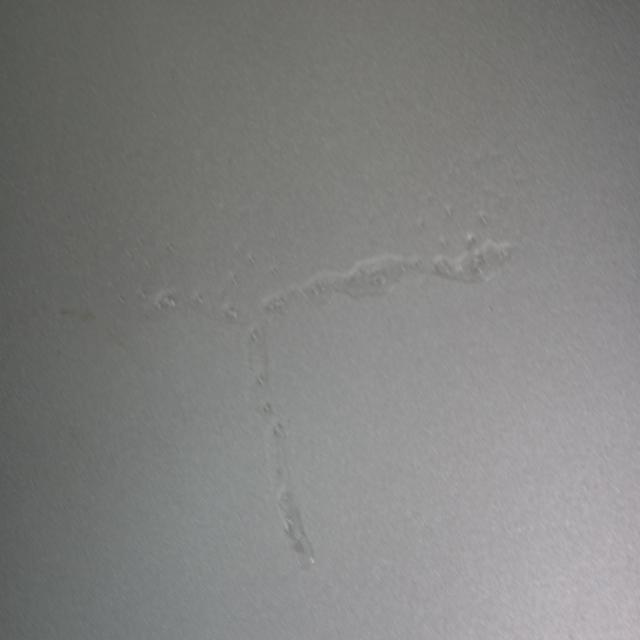runs: (117, 239, 514, 569)
